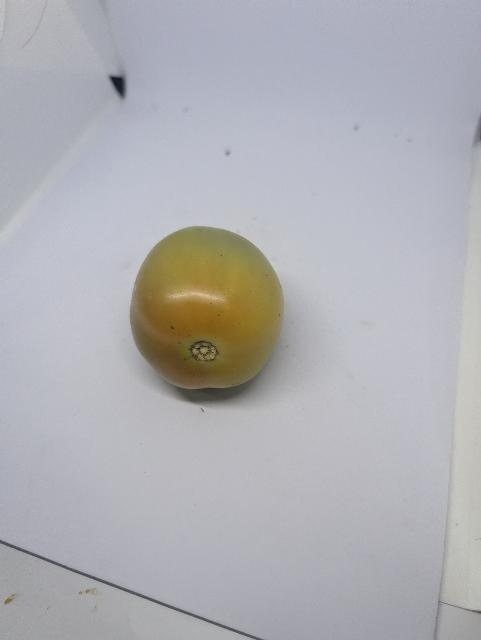breaker: (131, 225, 289, 396)
